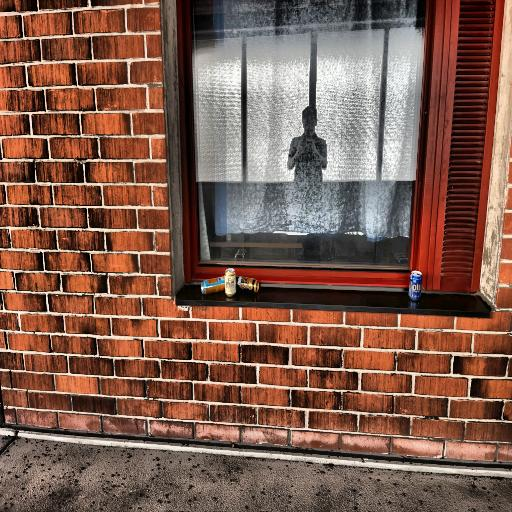karhu: (239, 273, 259, 296)
koti: (404, 264, 425, 308)
sandels: (226, 264, 238, 300)
